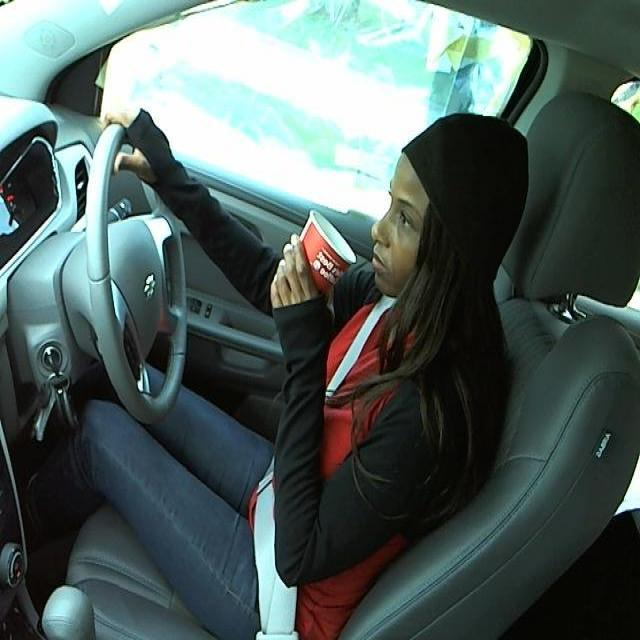drinking: (270, 210, 358, 316)
